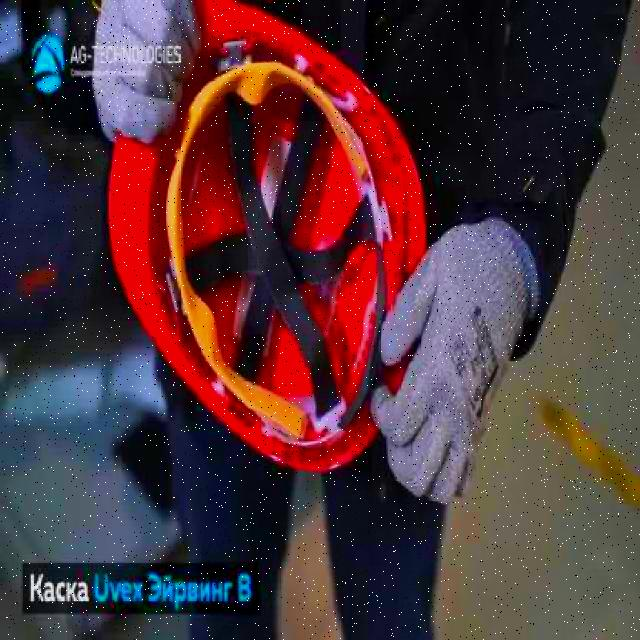Gloves: (370, 211, 538, 507), (90, 0, 204, 149)
Helmet: (108, 0, 428, 474)
